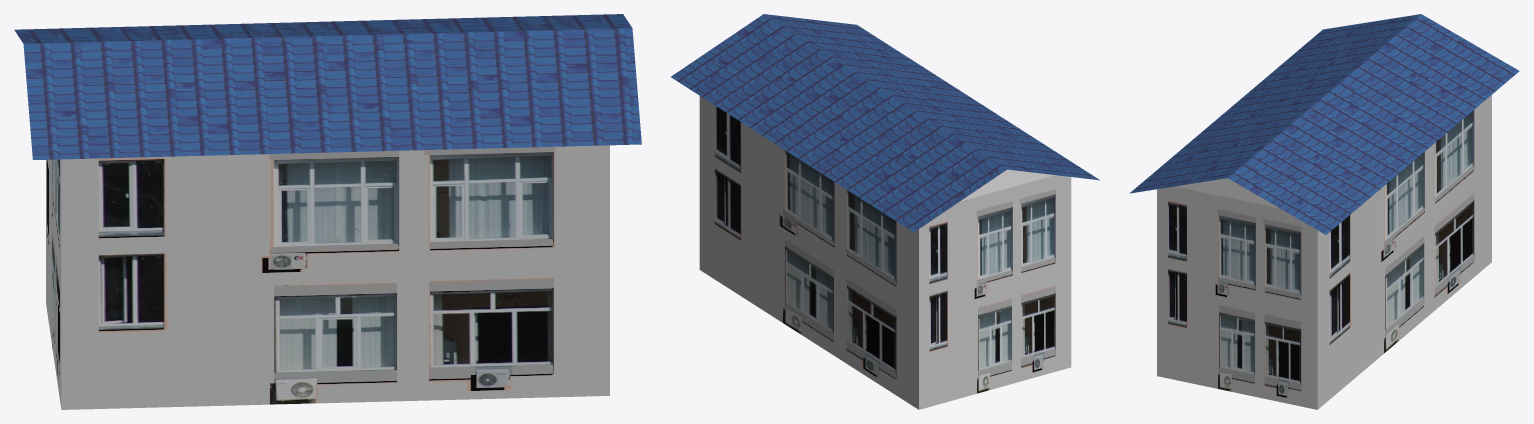
3 renders of one model, left to right at view 1: azimuth 30°, elevation 25°; view 2: azimuth 150°, elevation 25°; view 3: azimuth 270°, elevation 25°, orthographic. The views are drawn at different scales.
Visible parts, largest first — view 1: CityEngineMaterial_9_m, CityEngineMaterial_10_m; view 2: CityEngineMaterial_9_m, CityEngineMaterial_10_m, CityEngineMaterial_3_m; view 3: CityEngineMaterial_9_m, CityEngineMaterial_10_m, CityEngineMaterial_3_m.
Part boxes in pixels (x1,y1,x2,y2): CityEngineMaterial_9_m: (46,145,609,409); CityEngineMaterial_10_m: (14,14,641,160); CityEngineMaterial_9_m: (699,96,1071,409); CityEngineMaterial_10_m: (671,14,1099,232); CityEngineMaterial_3_m: (959,169,1054,201); CityEngineMaterial_9_m: (1157,95,1491,409); CityEngineMaterial_10_m: (1129,14,1519,234); CityEngineMaterial_3_m: (1175,178,1279,208).
Size of the model in its own units: 22.59 by 11.43 by 18.13.
